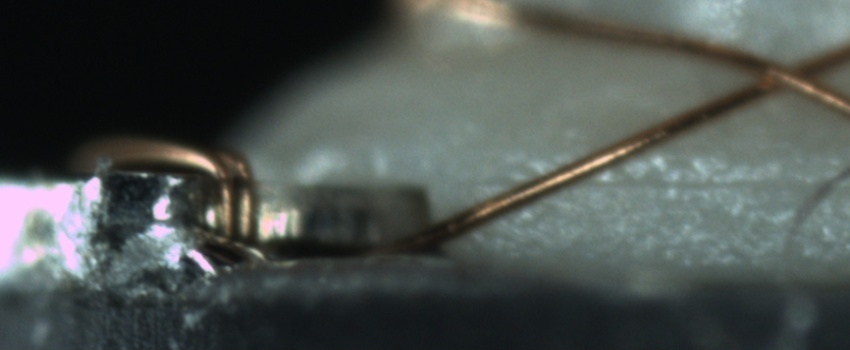CL: (742, 42, 840, 103)
DL: (480, 154, 849, 214)
TE: (68, 129, 259, 249)
